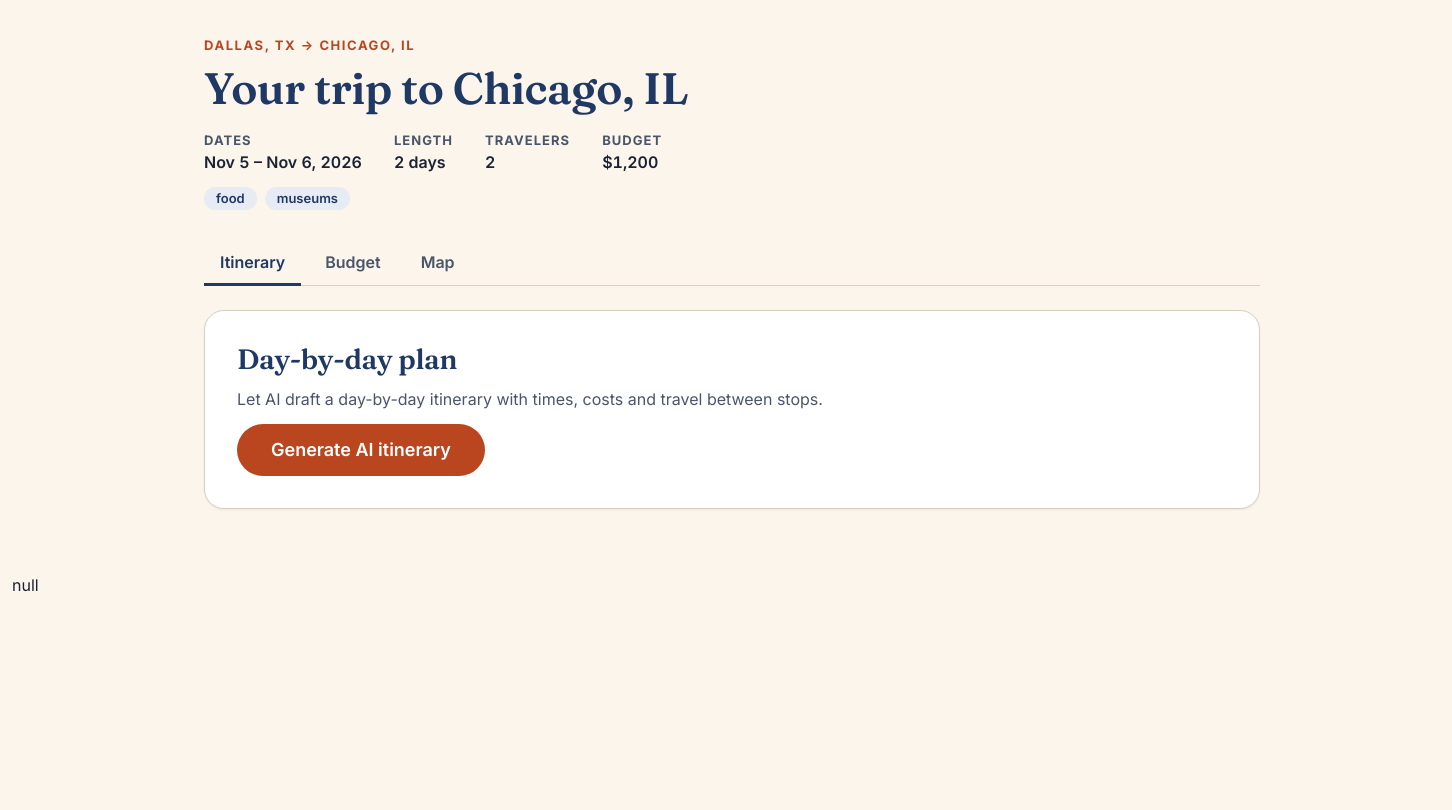
Test: Trip page plan › shows the server message when generating fails
This screenshot has width=1452, height=810.
Click the button "Generate AI itinerary" at x=361, y=450, box [237,424,485,476]
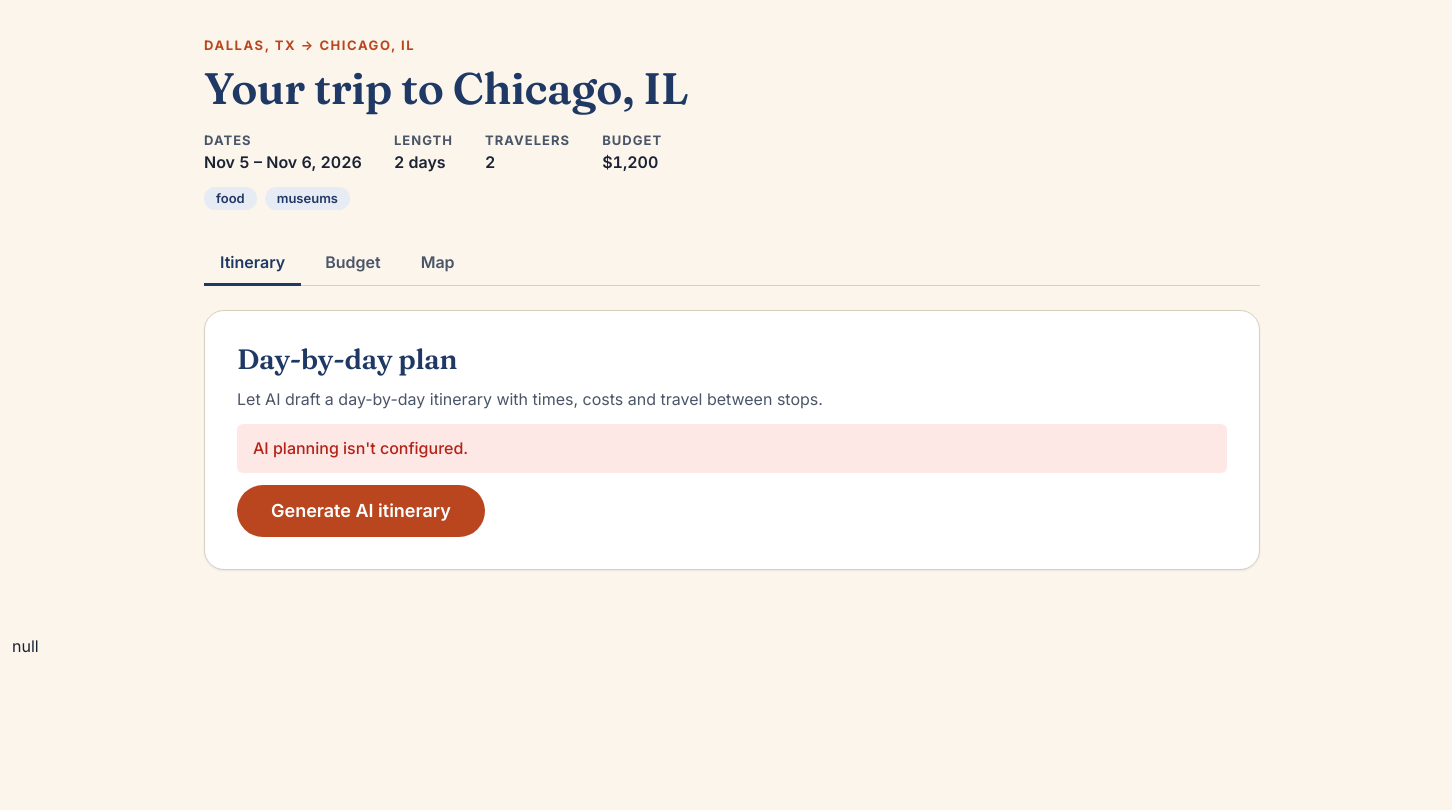
Check: the message shows "AI planning isn't configured", box [253,438,468,458]
